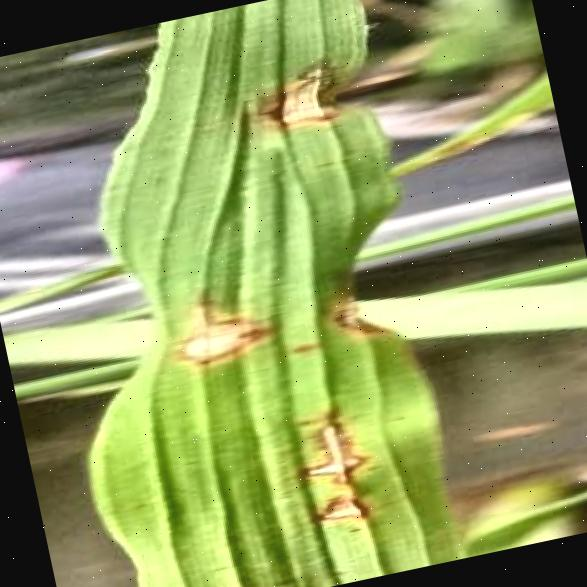Leaf_smut: (152, 259, 389, 384), (260, 386, 396, 534), (247, 46, 352, 145)
